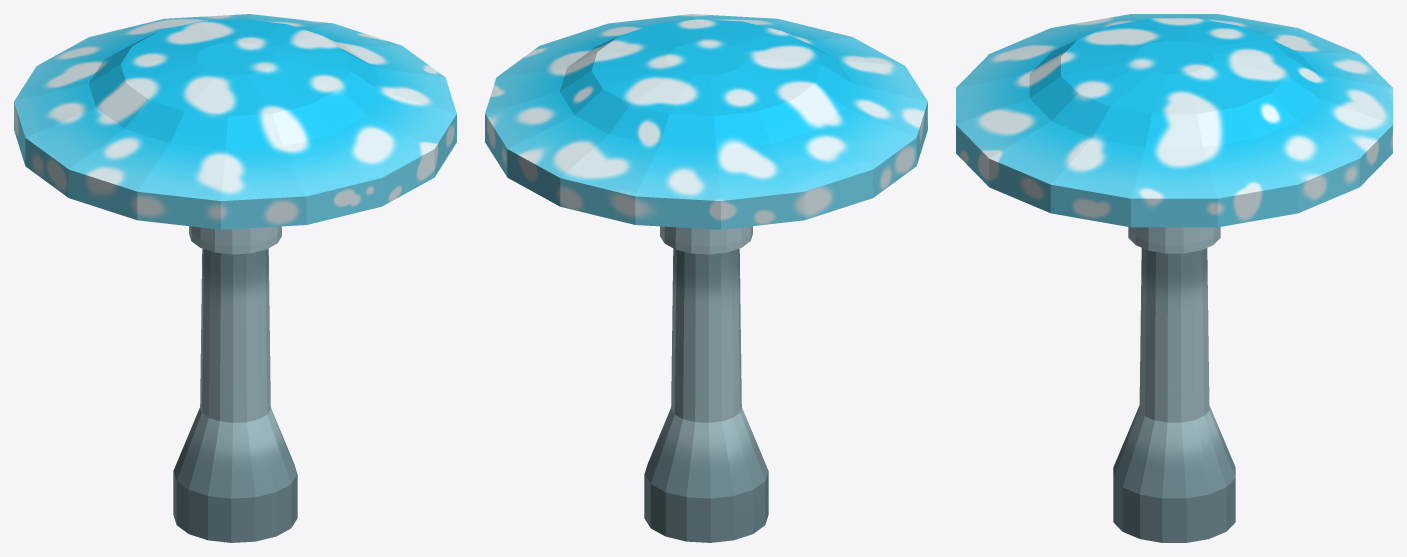
The model's file is blue amanita.fbx.
3 views of the same model, side by side, from view 1: azimuth 30°, elevation 25°; view 2: azimuth 150°, elevation 25°; view 3: azimuth 270°, elevation 25° (orthographic).
Visible parts, largest first — view 1: Cylinder; view 2: Cylinder; view 3: Cylinder.
Part boxes in pixels (left/top/right/bottom): Cylinder: left=14, top=14, right=456, bottom=542; Cylinder: left=485, top=14, right=927, bottom=542; Cylinder: left=956, top=14, right=1392, bottom=542.
Size of the model in its own units: 1675 by 1945 by 1675.
Materials: 1 (1 with a texture image).
